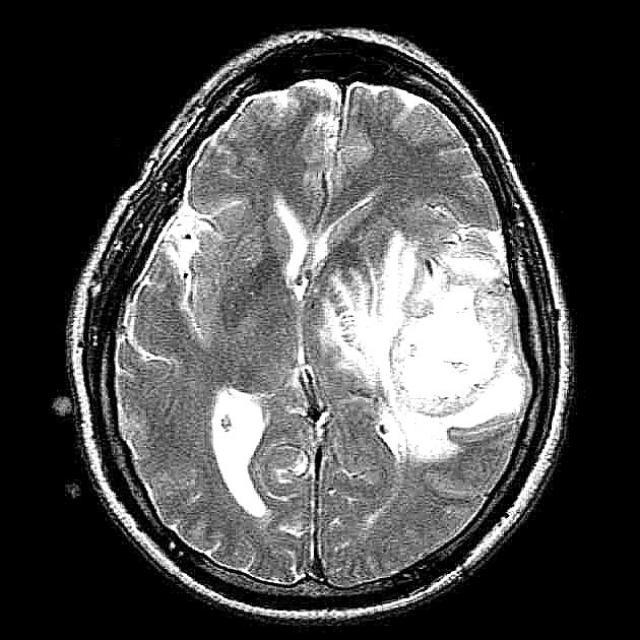brain tumor: (323, 229, 525, 460)
